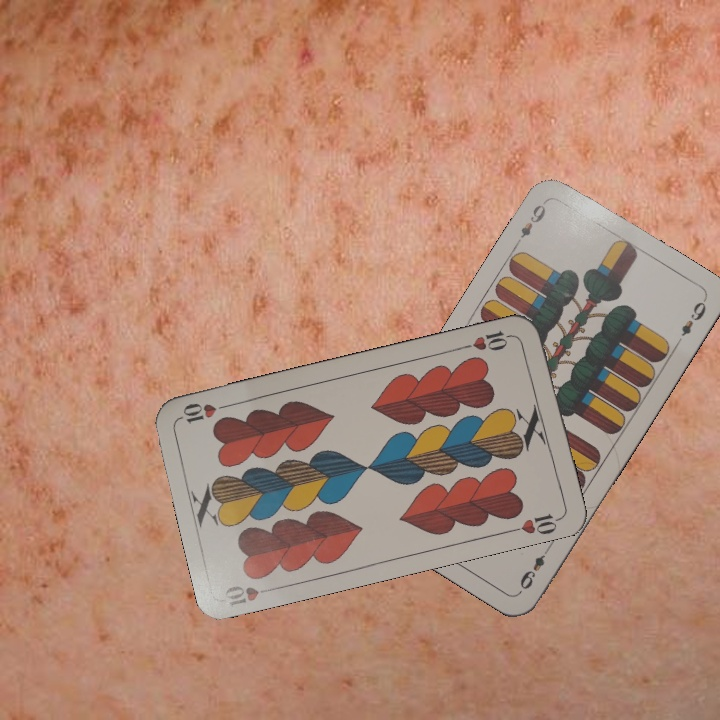E9: (515, 542, 552, 595), (512, 200, 549, 249)
H10: (220, 581, 280, 609), (459, 326, 518, 354)
